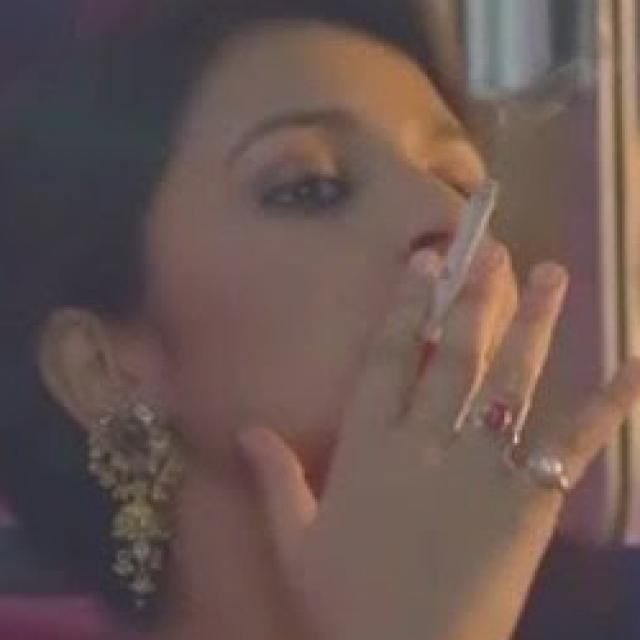Smooking: (418, 154, 509, 330)
